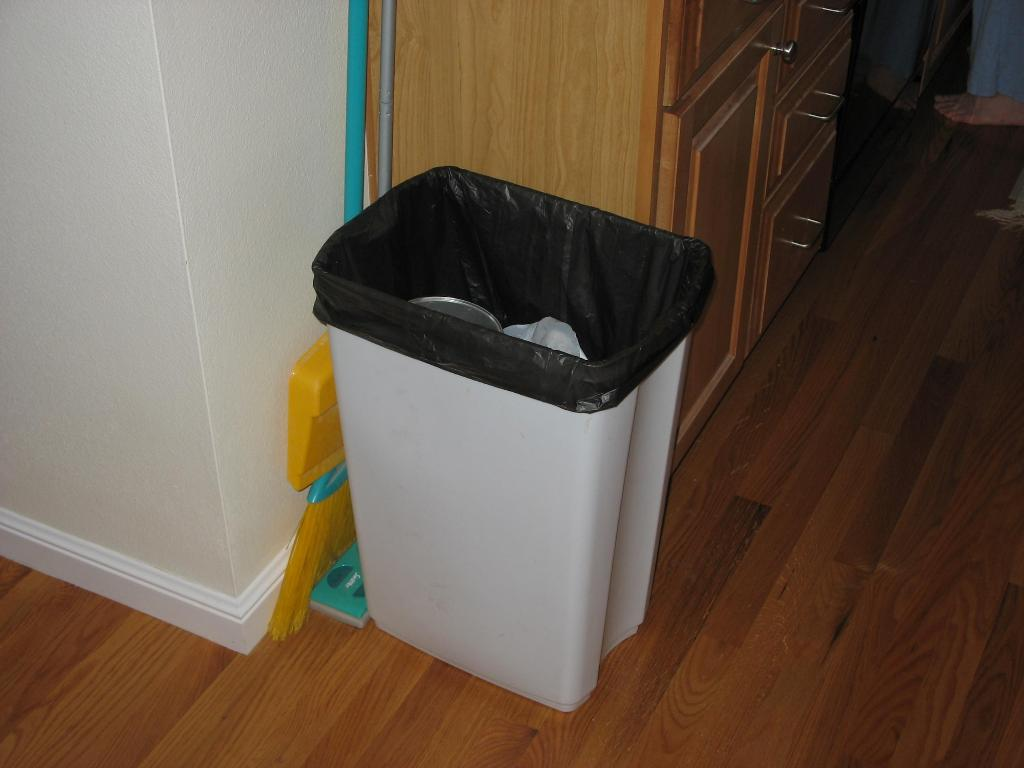dustbin: (293, 153, 719, 714)
